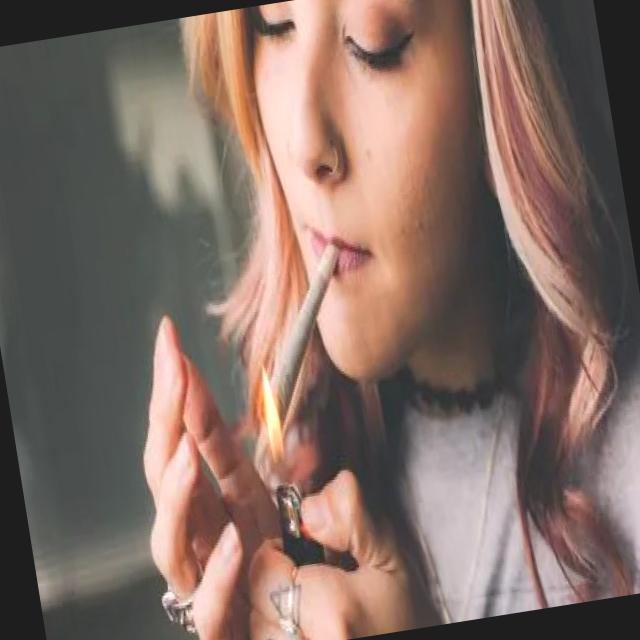cigarette: (240, 238, 370, 448)
